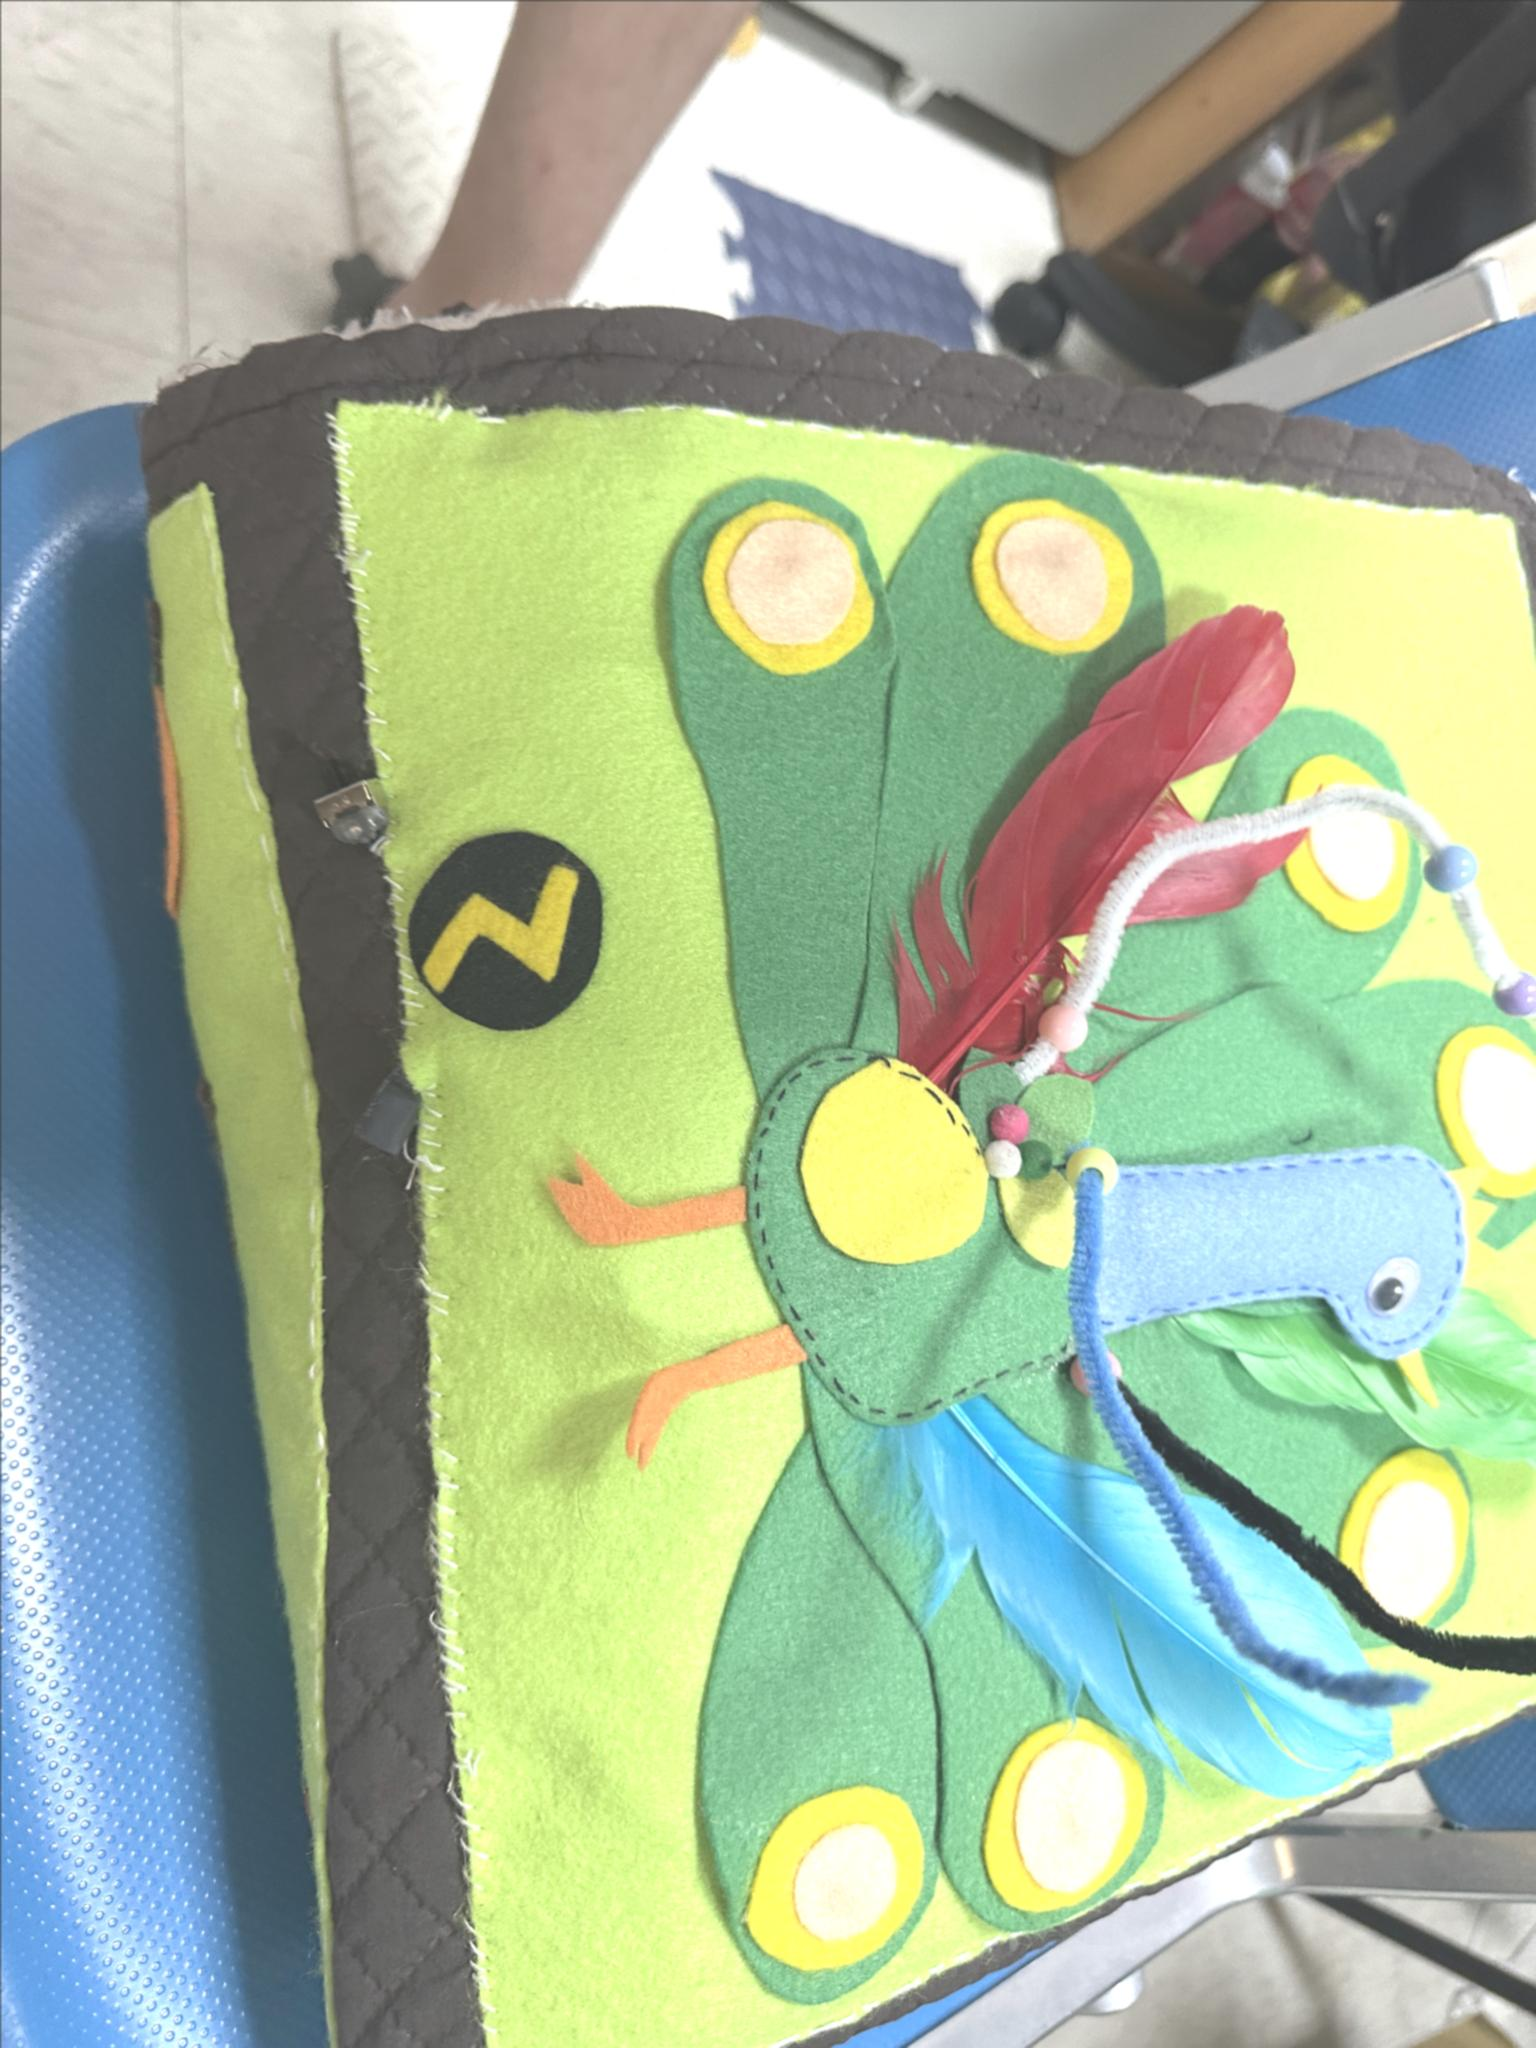bead: (999, 998, 1108, 1074), (1062, 1114, 1125, 1211), (1413, 835, 1484, 913), (1475, 956, 1536, 1035), (1068, 1319, 1125, 1403)
